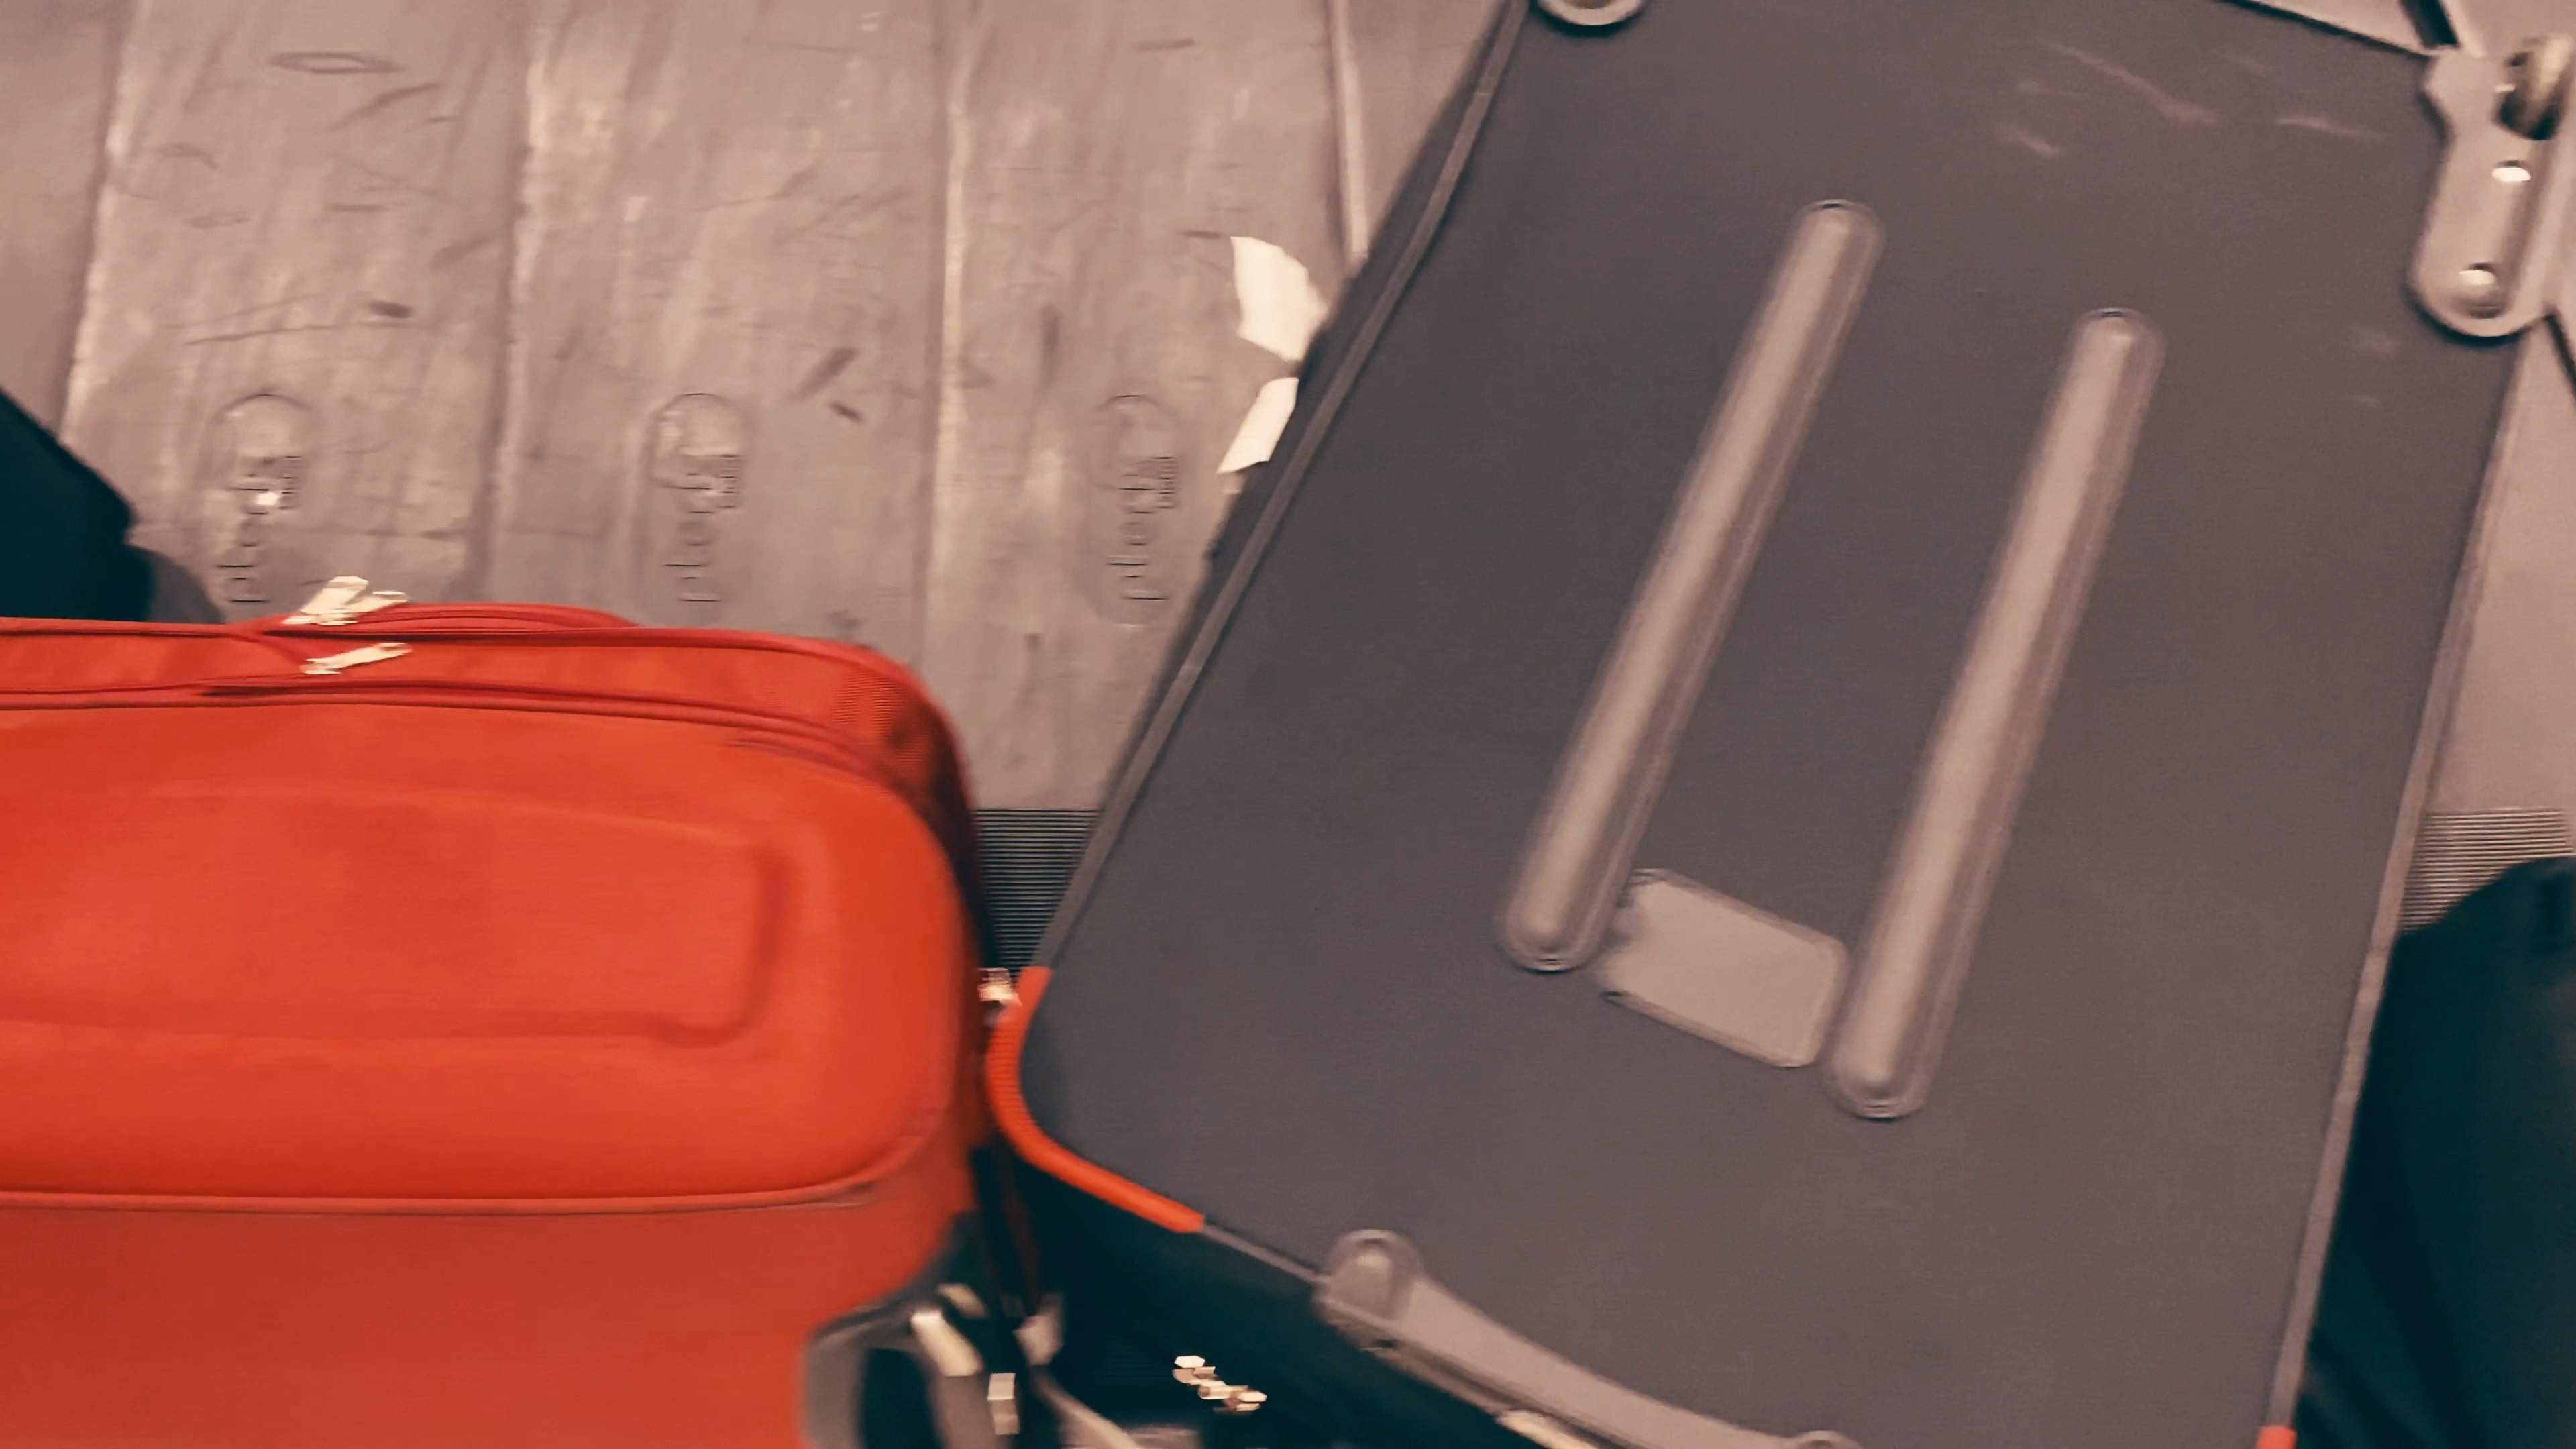baggage: (977, 25, 2571, 1449)
